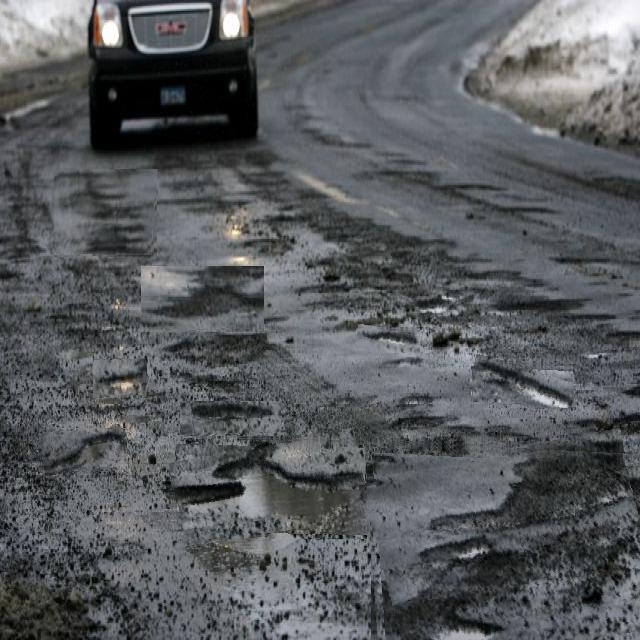Pothole: (363, 440, 640, 640), (171, 436, 367, 539), (54, 170, 158, 258), (141, 266, 264, 332), (470, 360, 574, 408), (39, 428, 127, 473), (180, 401, 281, 436), (92, 359, 148, 397), (356, 327, 420, 355), (382, 354, 429, 379)
